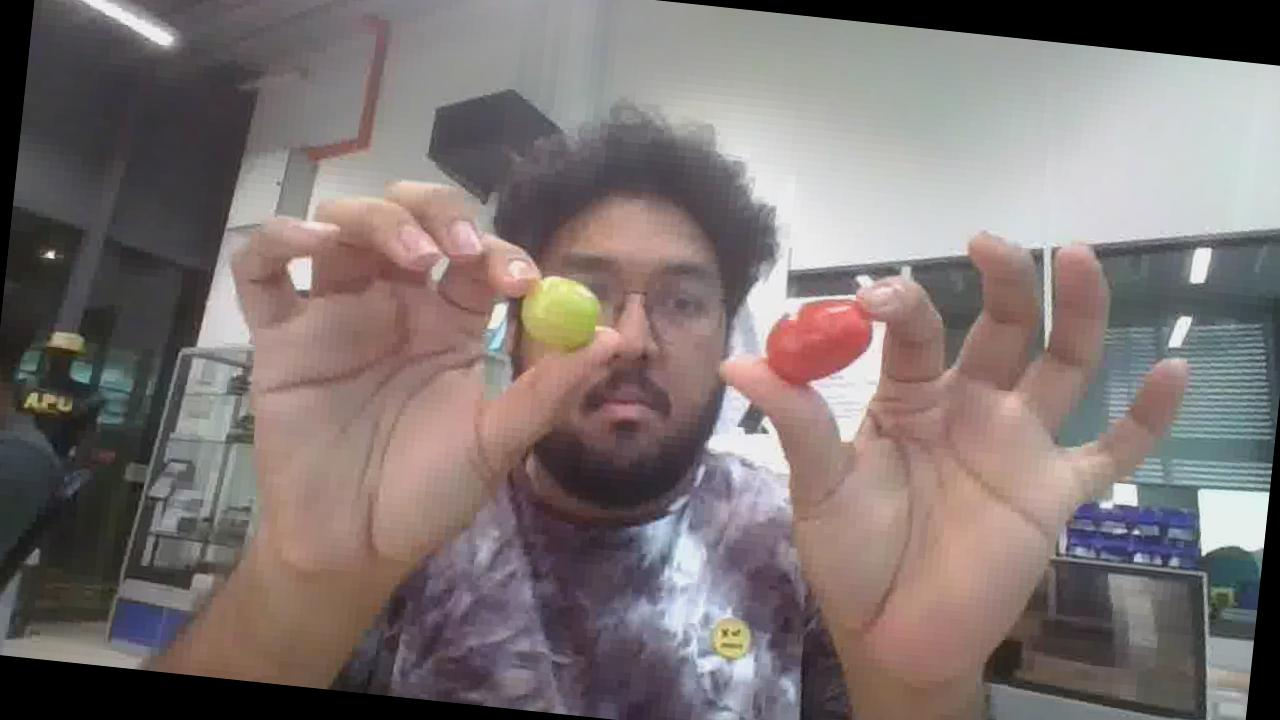green_cherry_tomato: (519, 276, 600, 351)
red_cherry_tomato: (766, 298, 871, 385)
